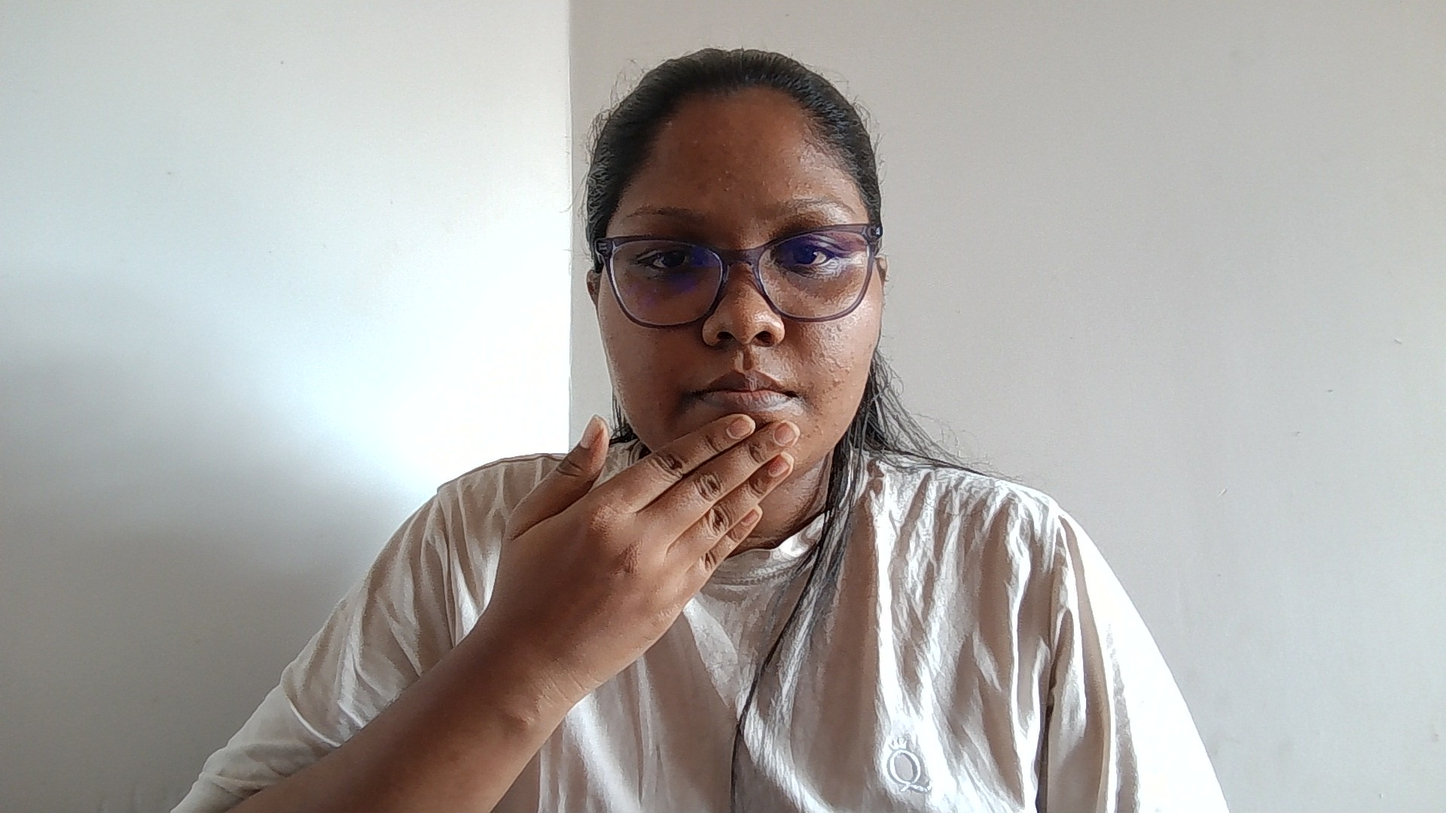Thank You: (394, 371, 838, 757)
